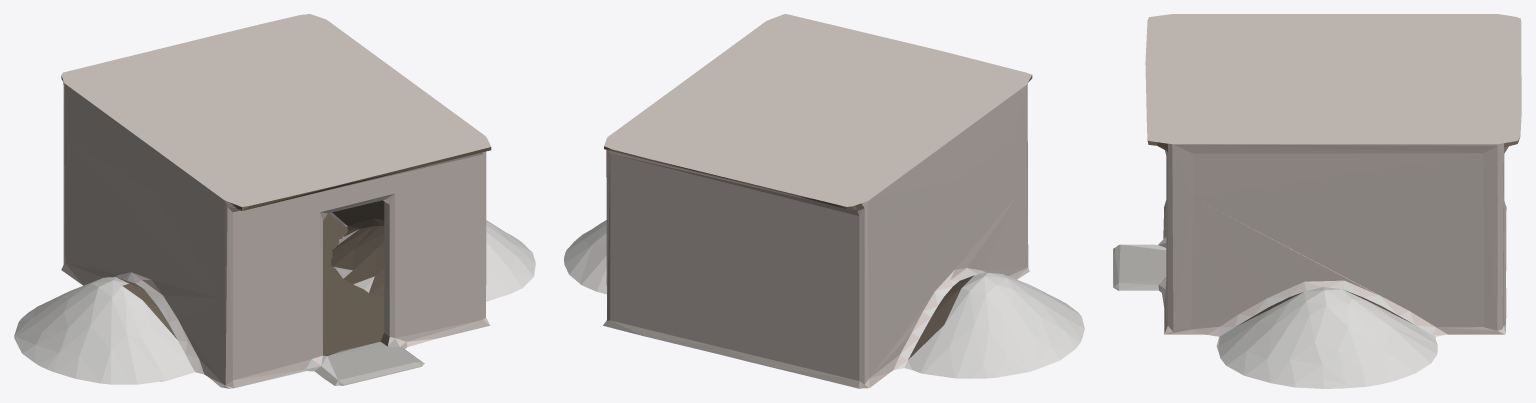
Rendered from etape-1.glb.
The picture shows the model from 3 angles, left to right: view 1: azimuth 30°, elevation 25°; view 2: azimuth 150°, elevation 25°; view 3: azimuth 270°, elevation 25°; orthographic projection. The views are drawn at different scales.
Visible parts, largest first — view 1: geometry_0; view 2: geometry_0; view 3: geometry_0.
Part boxes in pixels (bbox=[...]): geometry_0: bbox=[14, 14, 535, 388]; geometry_0: bbox=[564, 14, 1084, 388]; geometry_0: bbox=[1113, 14, 1521, 388].
Size of the model in its own units: 0.9177 by 0.3345 by 0.6507.
